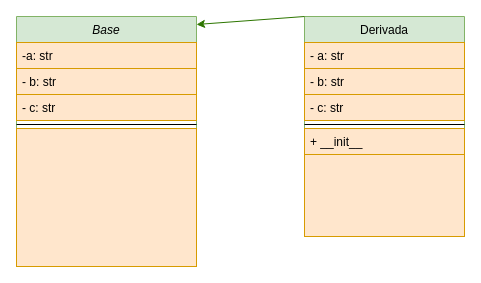
The diagram is 481 pixels wide and 283 high, and some of its shapes have lost their labels. The shapes that lost their labels are listed below. From the top down, each one's centre as x and y in pixels, then its label:
the point at 106,197: + __init__() + A() + B() +C()
the point at 384,195: + A() + B()
